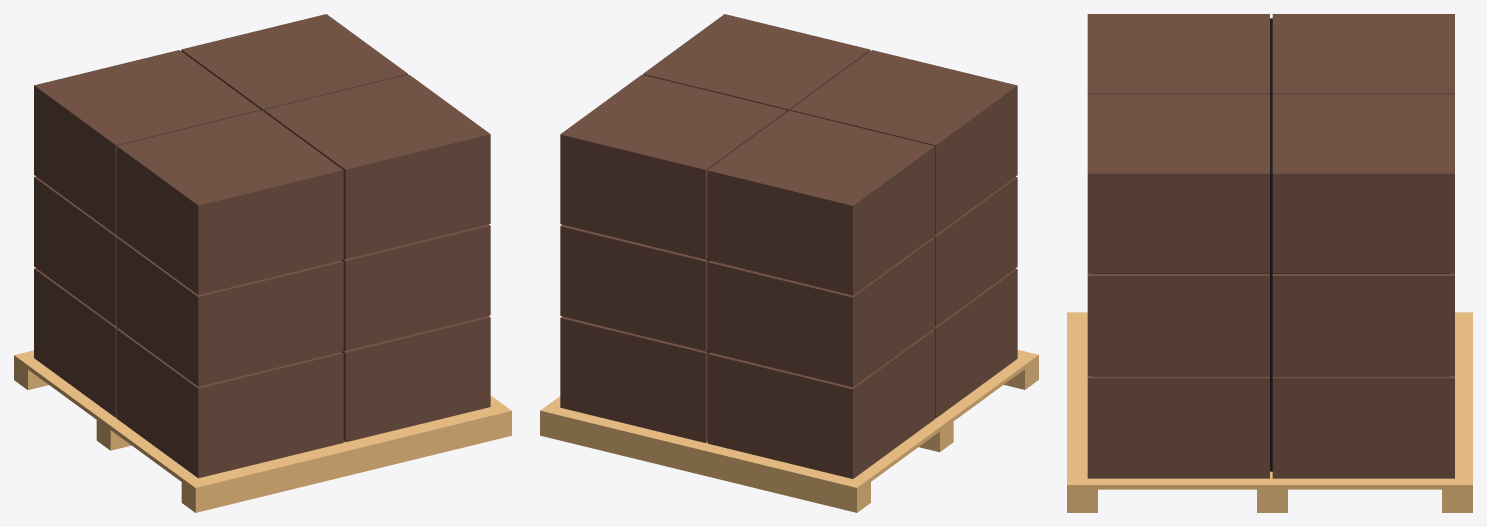
File: Full_Pallet.glb
3 views of the same model, side by side, from view 1: azimuth 30°, elevation 25°; view 2: azimuth 150°, elevation 25°; view 3: azimuth 270°, elevation 25° (orthographic). The views are drawn at different scales.
Parts seen in each view (by area): view 1: group1504080176, group907054596, group1385575828, group553363109, group1180126940, group879691417, group677024238, group1207741365, group884997475, group1871485012, group894602920, group763068098 (+2 smaller); view 2: group1180126940, group1207741365, group1871485012, group894602920, group1504080176, group1247911905, group1390556681, group907054596, group1488778429, group1385575828, group553363109, group763068098 (+2 smaller); view 3: group1207741365, group907054596, group1247911905, group677024238, group1390556681, group879691417, group1180126940, group1504080176, group884997475, group1488778429, group843210881, group1592700902 (+1 smaller).
Part boxes in pixels (x1,y1,x2,y2): group1504080176: (116,110,343,294); group907054596: (264,74,490,258); group1385575828: (116,328,343,478); group553363109: (116,237,343,386); group1180126940: (34,50,260,234); group879691417: (343,224,490,350); group677024238: (343,316,490,442); group1207741365: (181,14,407,110); group884997475: (181,401,511,512); group1871485012: (34,176,118,325); group894602920: (34,268,118,417); group763068098: (28,362,192,482); group1180126940: (707,110,934,295); group1207741365: (560,74,787,259); group1871485012: (707,237,934,387); group894602920: (707,329,934,478); group1504080176: (790,50,1017,234); group1247911905: (560,316,707,442); group1390556681: (560,224,707,351); group907054596: (643,14,870,111); group1488778429: (540,400,870,512); group1385575828: (933,268,1017,418); group553363109: (933,176,1017,326); group763068098: (859,362,1026,481); group1207741365: (1272,94,1454,273); group907054596: (1087,94,1269,273); group1247911905: (1272,376,1454,478); group677024238: (1087,376,1269,478); group1390556681: (1272,273,1454,375); group879691417: (1087,273,1269,375); group1180126940: (1272,14,1454,94); group1504080176: (1087,14,1269,94); group884997475: (1067,312,1097,512); group1488778429: (1442,312,1472,512); group843210881: (1095,478,1441,489); group1592700902: (1093,18,1449,471).
Size of the model in its own units: 1.59 by 1.43 by 1.58.
